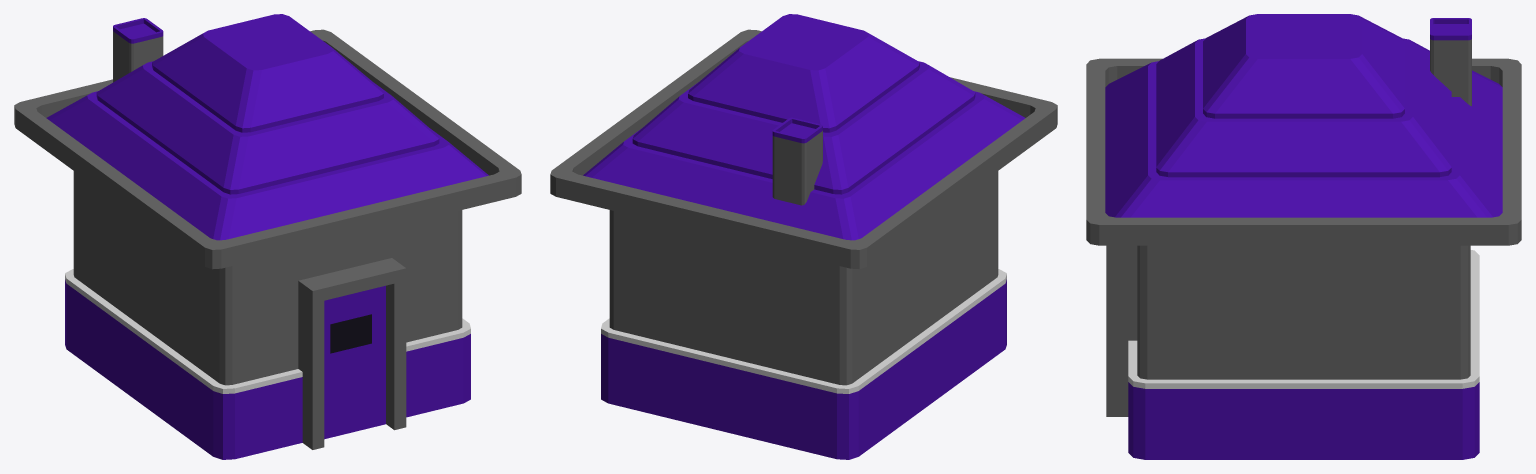
File: Purple_House.fbx
3 views of the same model, side by side, from view 1: azimuth 30°, elevation 25°; view 2: azimuth 150°, elevation 25°; view 3: azimuth 270°, elevation 25° (orthographic). The views are drawn at different scales.
Parts seen in each view (by area): view 1: House purple.001; view 2: House purple.001; view 3: House purple.001.
Boxes of the visible parts, x1,y1,x2,y2 form: House purple.001: (14, 14, 521, 459); House purple.001: (550, 14, 1057, 459); House purple.001: (1086, 14, 1521, 459).
Bounding box in the file's own units: 140 × 140 × 155.
